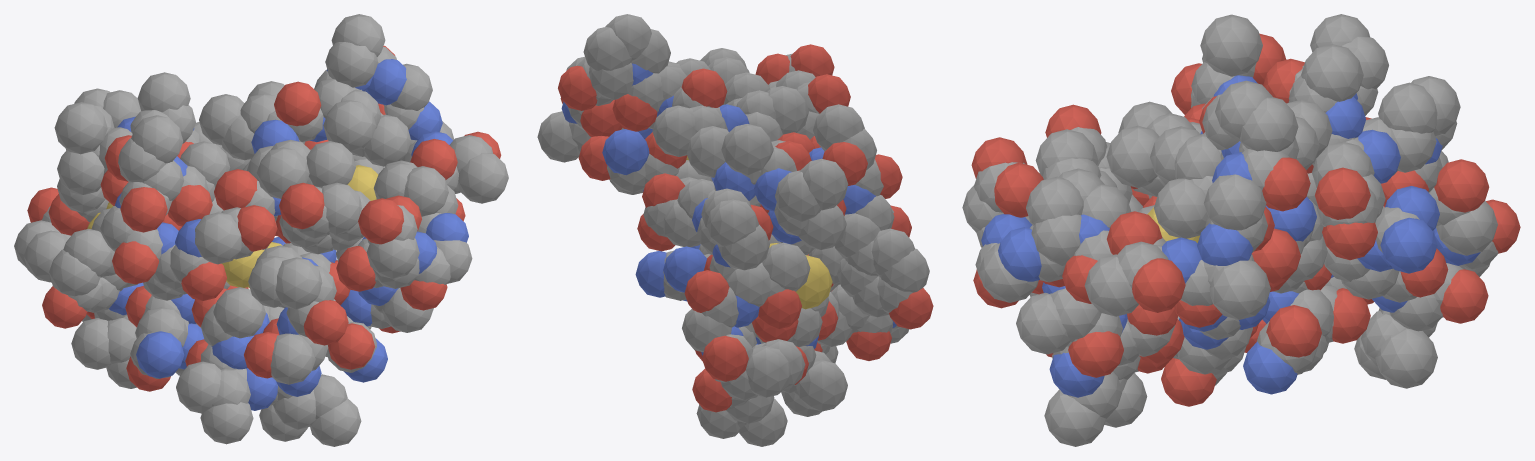
Rendered from 1crn_spacefill.glb.
3 views of the same model, side by side, from view 1: azimuth 30°, elevation 25°; view 2: azimuth 150°, elevation 25°; view 3: azimuth 270°, elevation 25° (orthographic). The views are drawn at different scales.
Parts seen in each view (by area): view 1: 1crn; view 2: 1crn; view 3: 1crn.
Boxes of the visible parts, x1,y1,x2,y2 form: 1crn: (14,14,508,446); 1crn: (537,14,933,446); 1crn: (962,14,1520,446).
Size of the model in its own units: 30.42 by 24.85 by 30.22.
